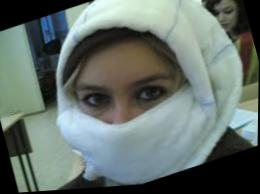NONE: (210, 4, 241, 39)
WRONG: (68, 42, 195, 184)
